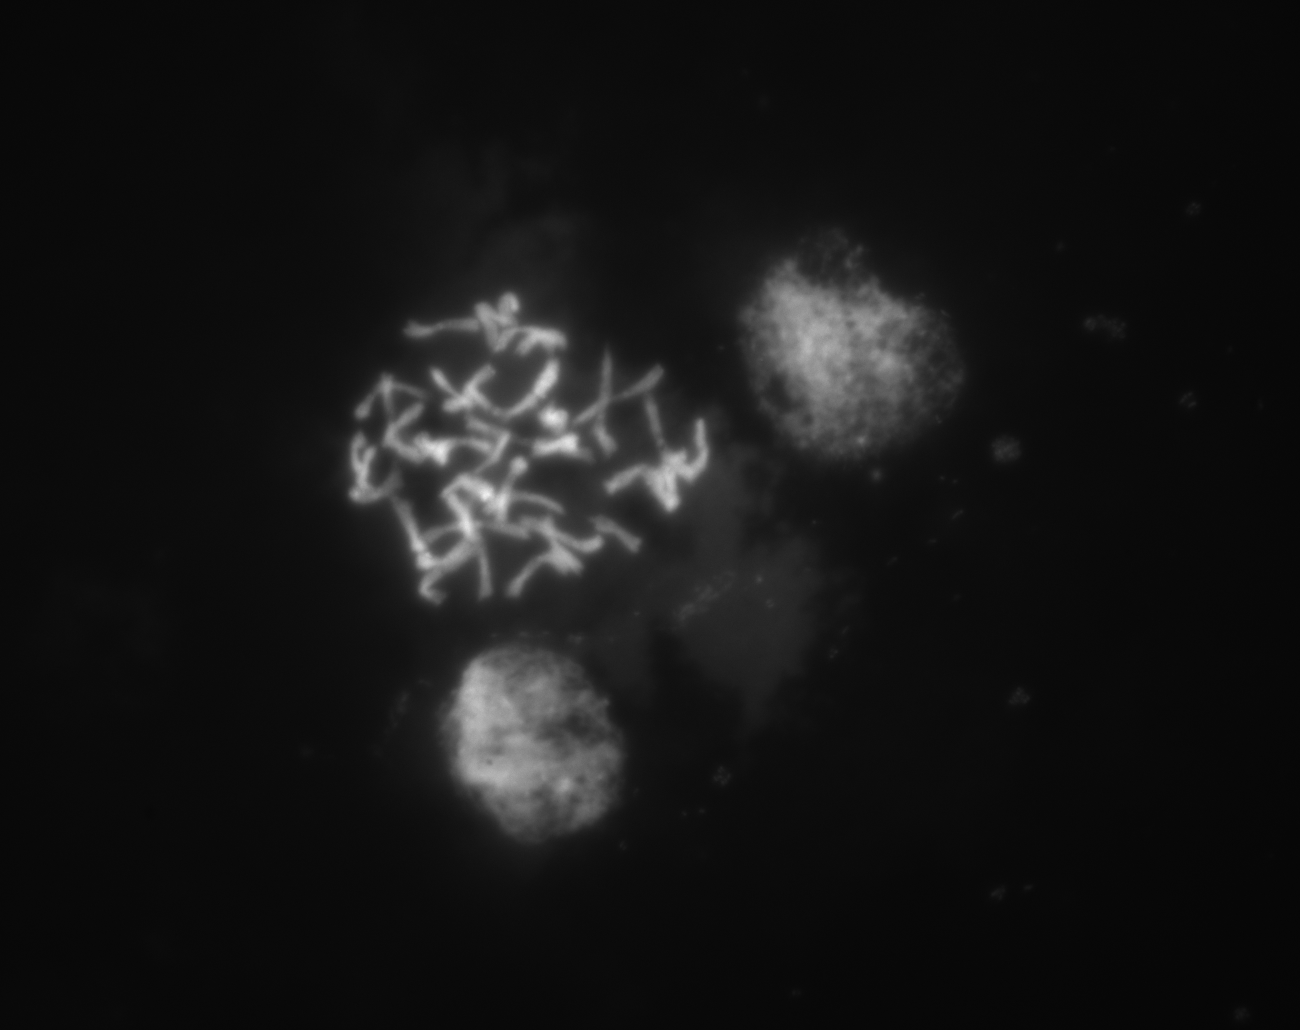Chromosomes: (312, 225, 740, 637)
Others: (708, 182, 1005, 498), (404, 623, 667, 879)
